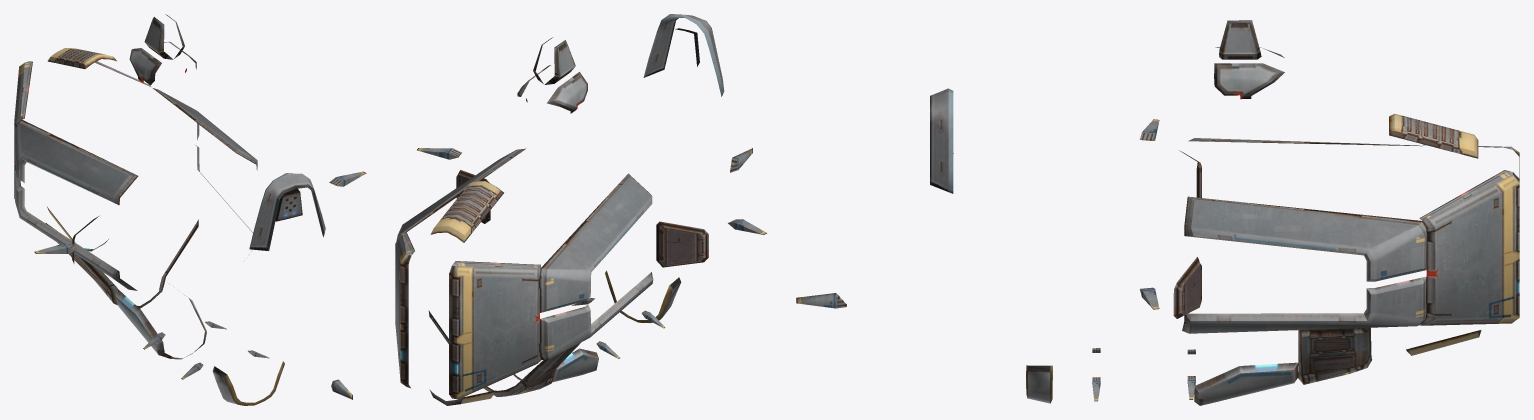
The model's file is yao_cf_assa_01_t2.glb.
The picture shows the model from 3 angles, left to right: view 1: azimuth 30°, elevation 25°; view 2: azimuth 150°, elevation 25°; view 3: azimuth 270°, elevation 25°; orthographic projection. The views are drawn at different scales.
Visible parts, largest first — view 1: yao_assault_frigate_01_t2_LOD0; view 2: yao_assault_frigate_01_t2_LOD0; view 3: yao_assault_frigate_01_t2_LOD0.
Boxes of the visible parts, x1,y1,x2,y2 form: yao_assault_frigate_01_t2_LOD0: [14, 14, 366, 405]; yao_assault_frigate_01_t2_LOD0: [395, 14, 766, 405]; yao_assault_frigate_01_t2_LOD0: [796, 20, 1519, 405].
Size of what is drawn, in the model's own units: 1.54 by 1.46 by 2.48.
Materials: 1 (1 with a texture image).
